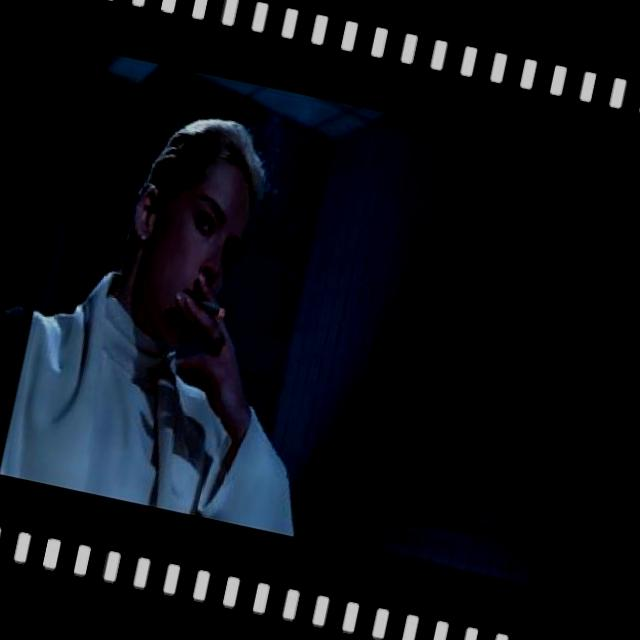cigarette: (190, 294, 228, 322)
